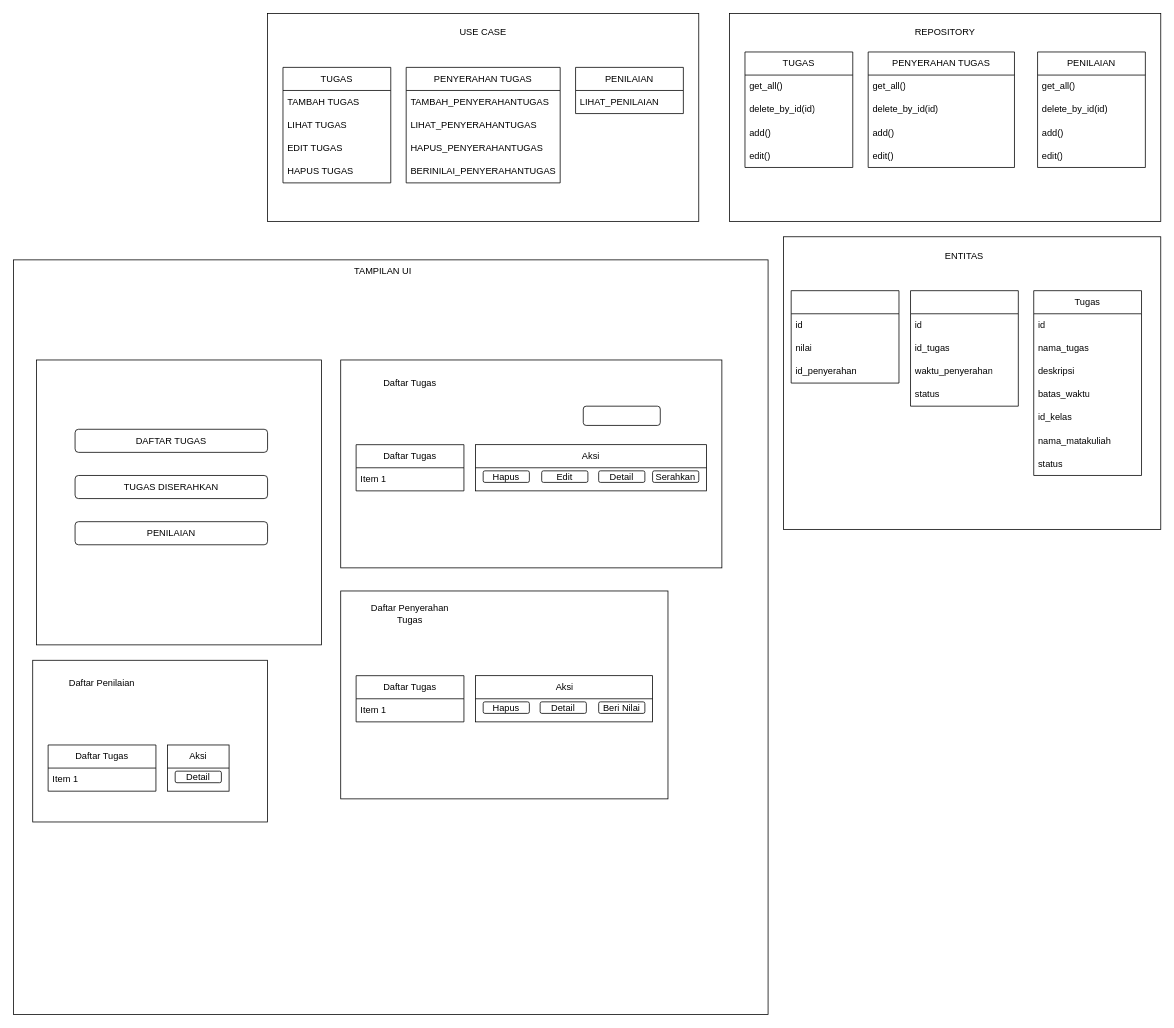
This 1174x1028 diagram has some shape labels left out. Here are the shapes that lost their labels. From the top down, the box of each, then its label:
(790, 290, 899, 383): Penilain
(910, 290, 1018, 406): PenyerahanTugas
(583, 405, 660, 425): Tambah
